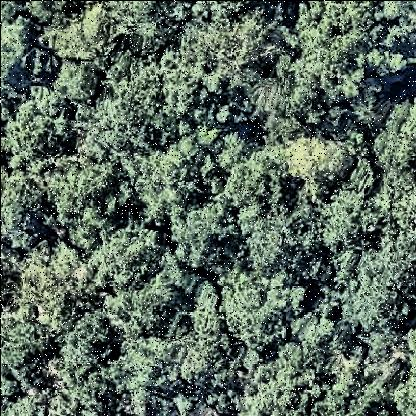tree-top: (291, 3, 396, 102), (220, 269, 300, 352), (188, 11, 273, 86), (53, 163, 124, 245), (1, 91, 70, 172), (170, 203, 244, 277), (77, 99, 153, 167), (152, 56, 226, 124), (279, 135, 357, 197), (1, 172, 53, 246), (61, 310, 114, 378), (52, 58, 102, 109)
